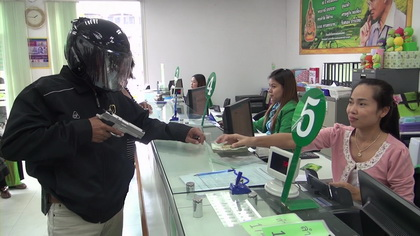Helmet: (58, 10, 141, 95)
gun: (88, 106, 158, 151)
